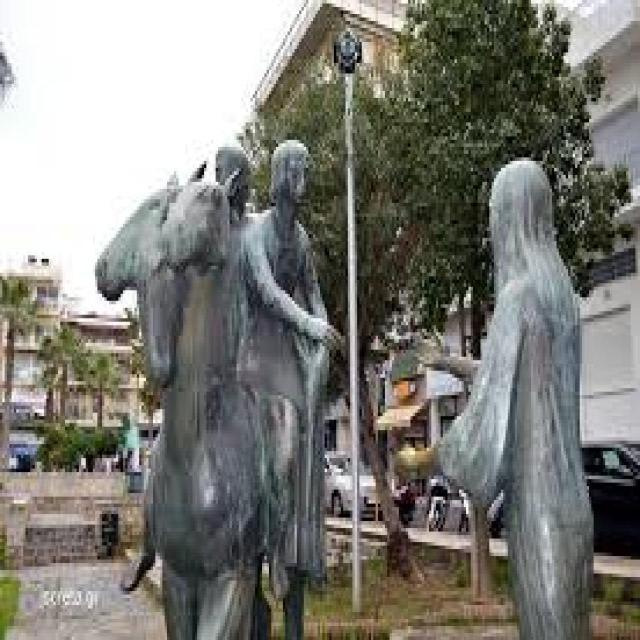Aretousa: (96, 137, 594, 640)
